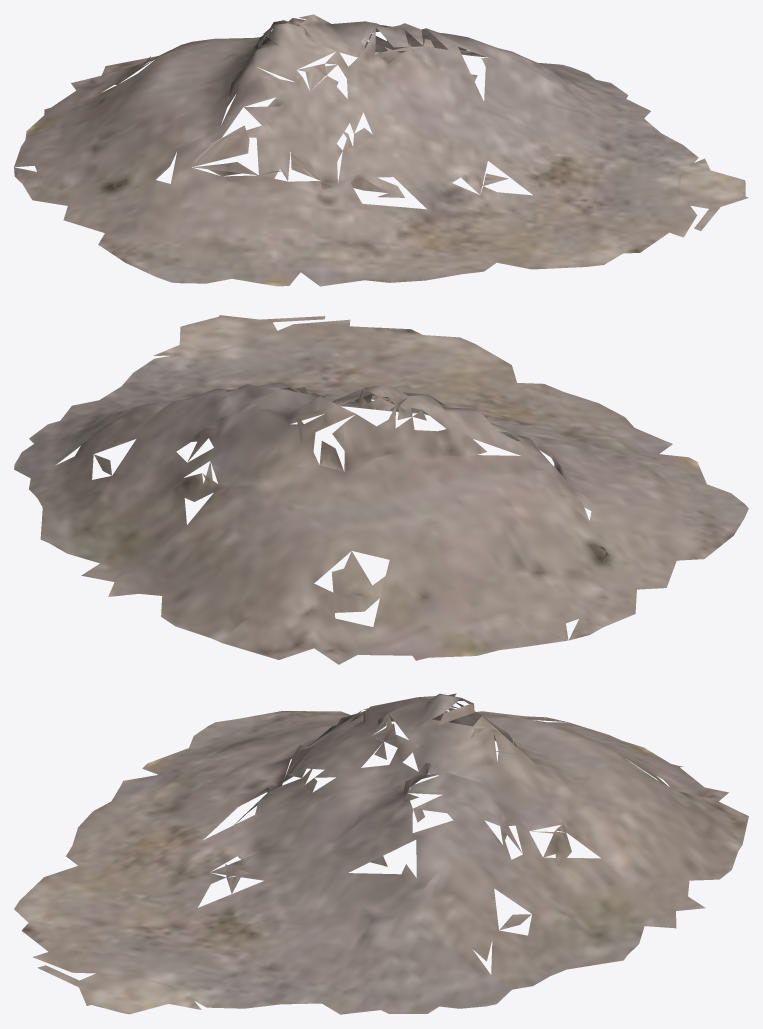
File: sandpile_lo.glb
3 renders of one model, top to bottom at view 1: azimuth 30°, elevation 25°; view 2: azimuth 150°, elevation 25°; view 3: azimuth 270°, elevation 25°, orthographic. The views are drawn at different scales.
Visible parts, largest first — view 1: merged; view 2: merged; view 3: merged.
Part boxes in pixels (x1,y1,x2,y2): merged: (14,14,748,286); merged: (14,315,748,664); merged: (14,693,748,1014).
Size of the model in its own units: 5.81 by 1.3 by 5.94.
Materials: 1 (1 with a texture image).
